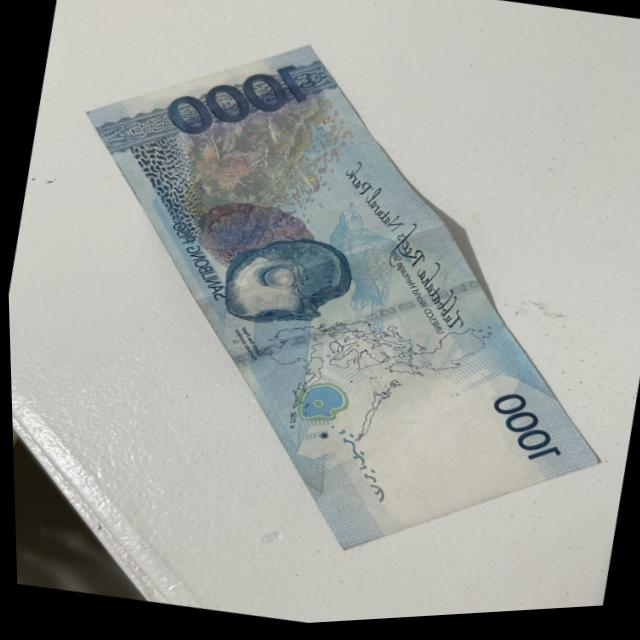1000_pearl: (206, 219, 356, 355)
1000_pearl_watermark: (275, 377, 349, 440)
